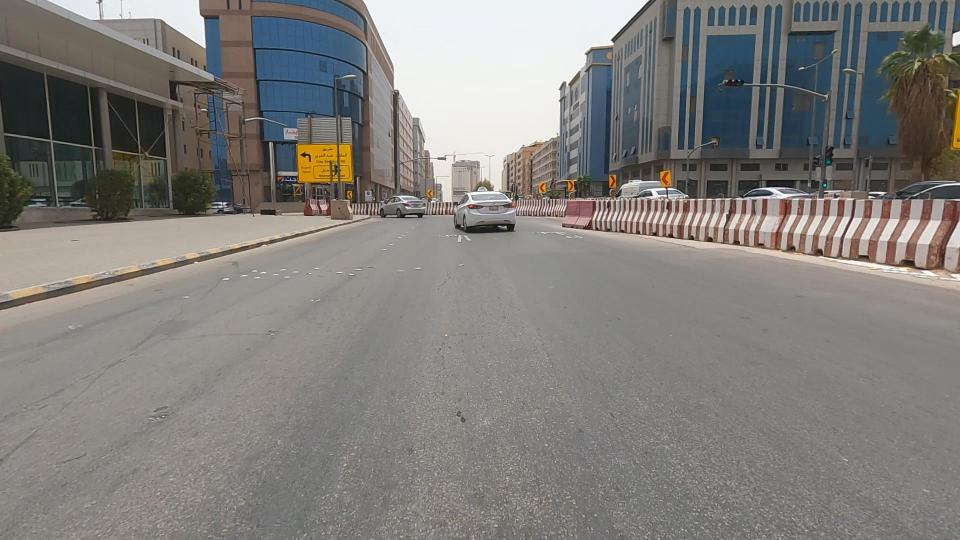CONSTRUCTION_ROAD: (664, 159, 955, 303), (526, 169, 725, 264), (502, 165, 579, 237)
